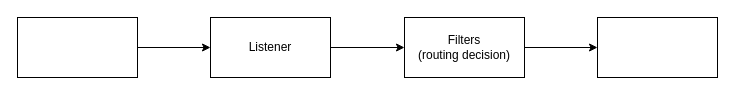
Some shapes in this 735 by 95 pixel diagram are drawn without their labels. The shapes that lost their labels are listed below. From the top down, each one's centre as x and y in pixels, then its label:
At (x=77, y=47): "Downstream Client (app)".
At (x=657, y=47): "Upstream Cluster".
